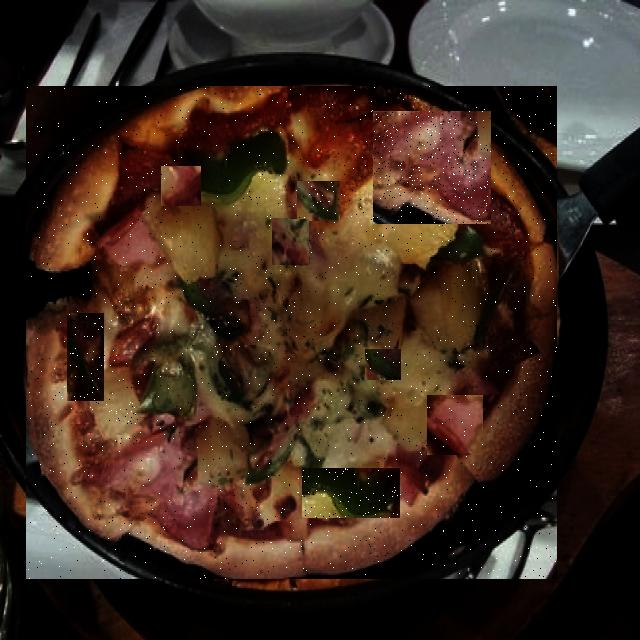Green Pepper: (302, 468, 400, 518), (388, 252, 448, 330), (67, 313, 104, 401), (297, 181, 340, 221), (264, 182, 290, 228), (365, 349, 401, 380), (115, 402, 136, 444)
Ham: (373, 111, 491, 224), (427, 395, 483, 455), (272, 219, 309, 265), (161, 166, 201, 206), (323, 416, 353, 441)
Pizza: (27, 86, 557, 579)
